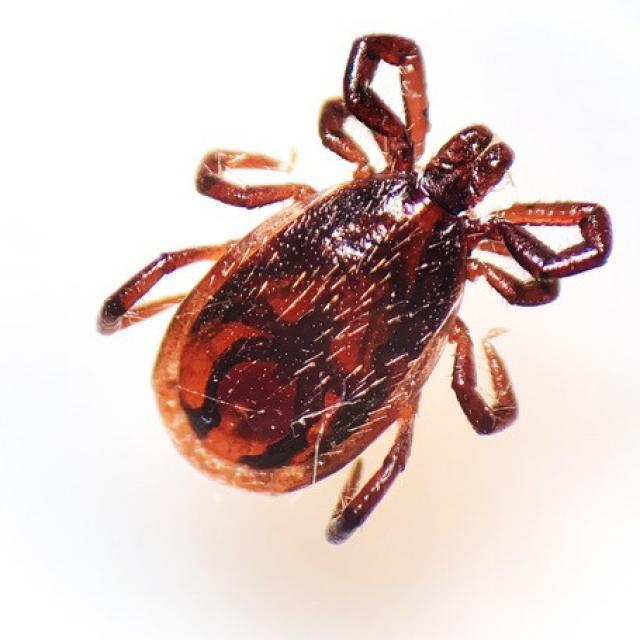Ixodes Ricinus-M: (97, 34, 613, 547)
